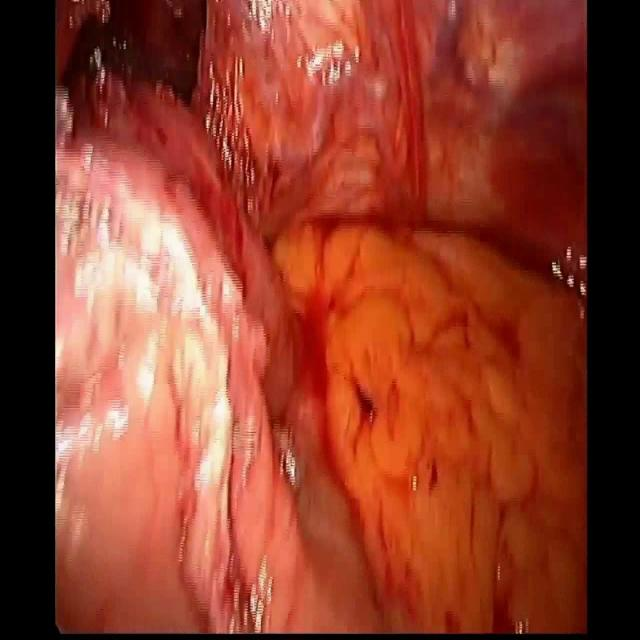surgical-area: (54, 0, 588, 634)
